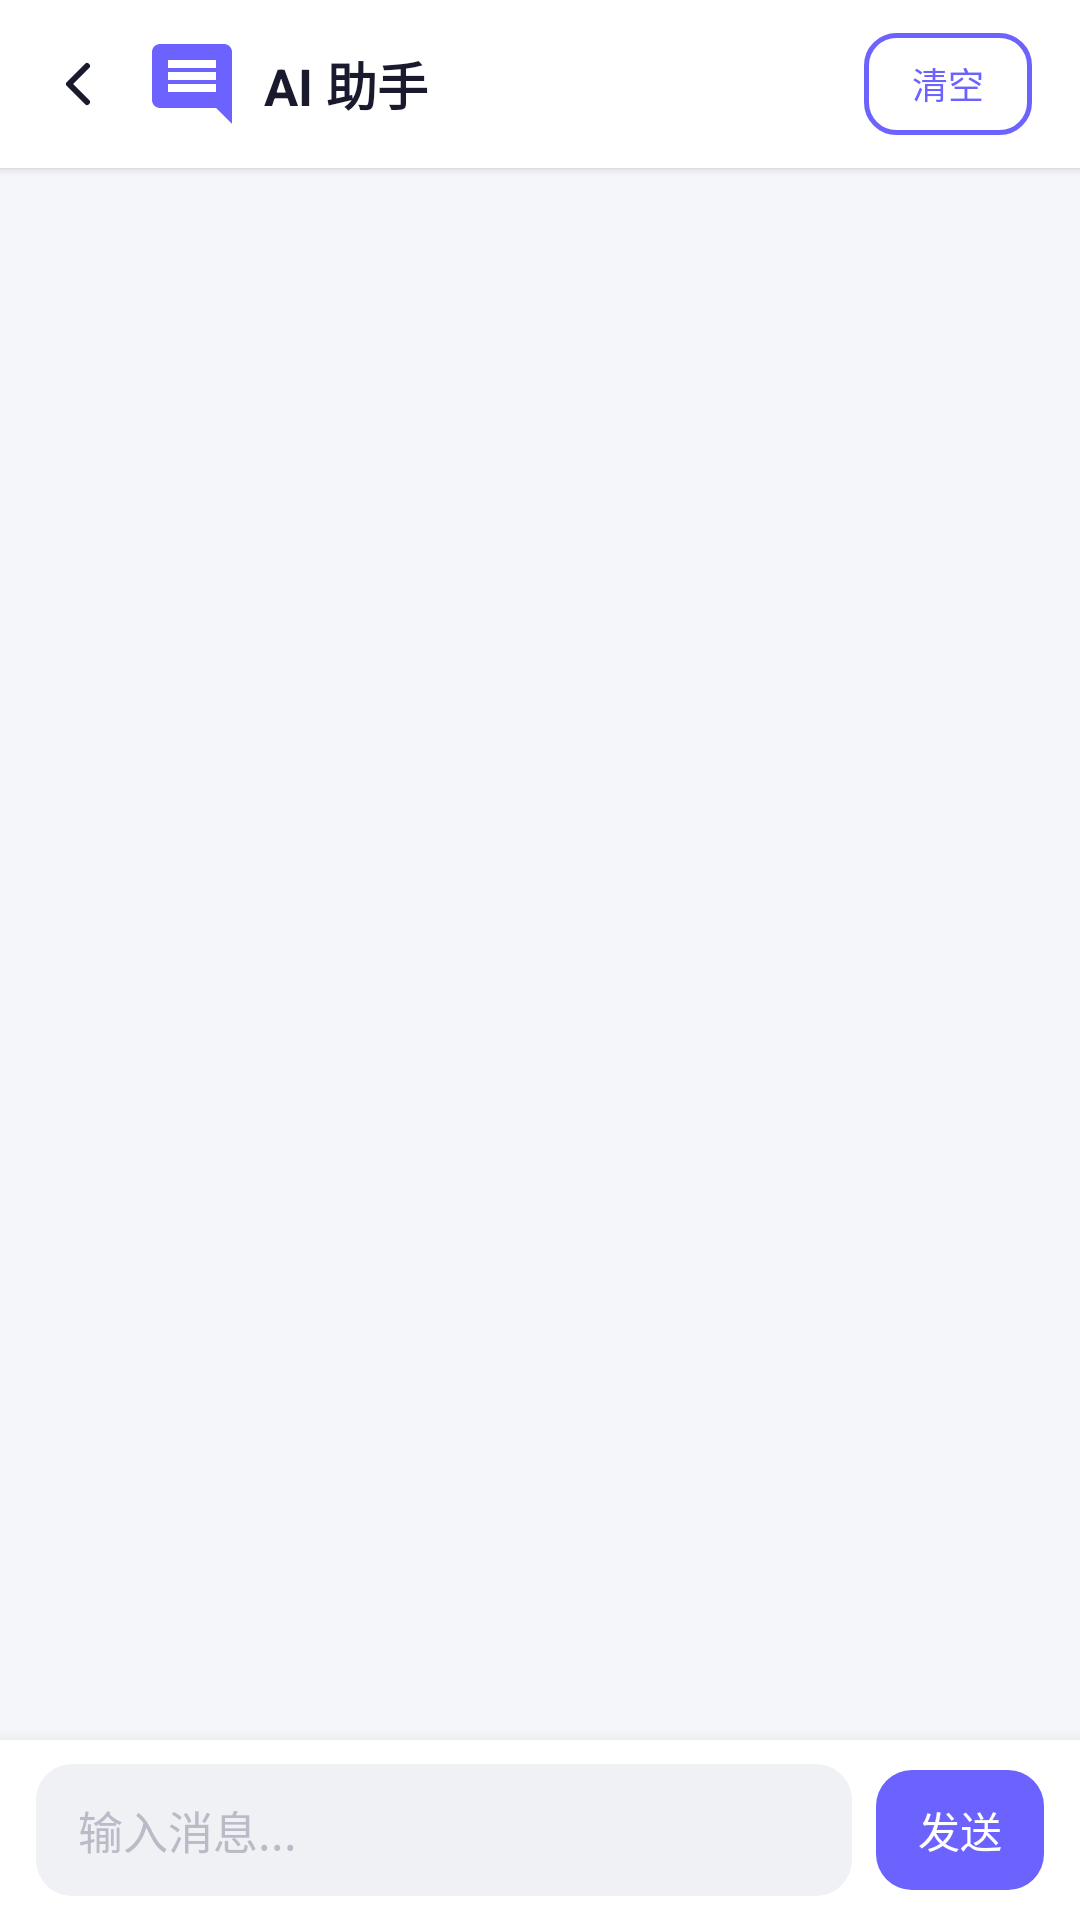

Icon bounding boxes for this 1080w x 1920h phone screenshot, format rect(x1, y1, x2, y2):
back: rect(66, 63, 90, 105)
